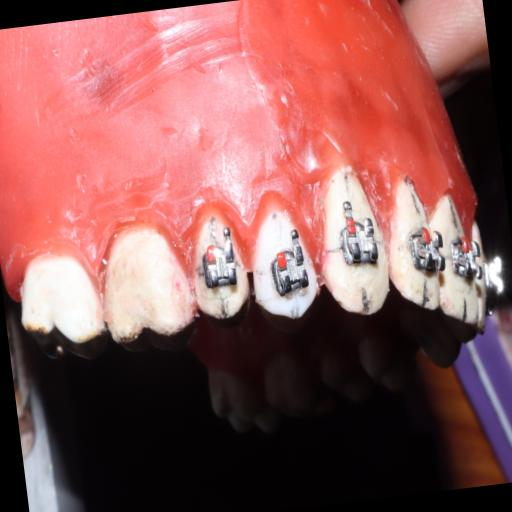correct_brace: (241, 194, 324, 324)
